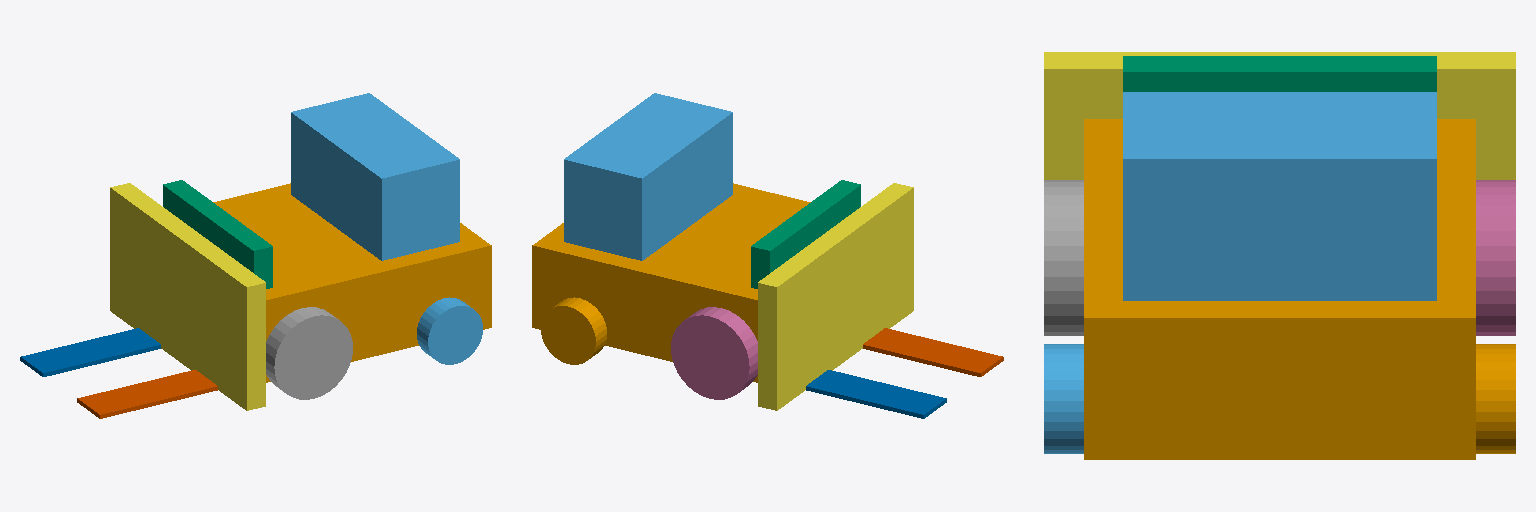
The robot description file, URDF, robot "sample":
<?xml version="1.0"?>
<robot name="sample">

  <link name="base_link">
    <visual>
      <geometry>
        <box size="0.6 0.5 0.2"/>
      </geometry>
    </visual>
  </link>

  <joint name="base_to_back_cover" type="fixed">
    <parent link="base_link"/>
    <child link="back_cover"/>
    <origin xyz="0.15 0 0.1"/>
  </joint>

  <link name="back_cover">
    <visual>
      <geometry>
        <box size="0.2 0.4 0.2"/>
      </geometry>
      <origin xyz="0 0 0.1"/>
    </visual>
  </link>

  <joint name="base_to_front_cover" type="fixed">
    <parent link="base_link"/>
    <child link="front_cover"/>
    <origin xyz="-0.25 0 0.1"/>
  </joint>

  <link name="front_cover">
    <visual>
      <geometry>
        <box size="0.05 0.4 0.1"/>
      </geometry>
      <origin xyz="0 0 0.05"/>
    </visual>
  </link>

  <joint name="base_to_fork_frame" type="prismatic">
    <parent link="base_link"/>
    <child link="fork_frame"/>
    <origin xyz="-0.3 0 -0.08"/>
    <axis xyz="0 0 1"/>
    <limit effort="1000.0" lower="0" upper="0.16" velocity="0.5"/>
  </joint>

  <link name="fork_frame">
    <visual>
      <geometry>
        <box size="0.05 0.6 0.3"/>
      </geometry>
      <origin xyz="-0.025 0 0.1"/>
    </visual>
  </link>

  <joint name="fork_frame_to_right_fork" type="fixed">
    <parent link="fork_frame"/>
    <child link="right_fork"/>
    <origin xyz="-0.05 0.125 -0.045"/>
  </joint>

  <link name="right_fork">
    <visual>
      <geometry>
        <box size="0.3 0.1 0.01"/>
      </geometry>
      <origin xyz="-0.15 0 0"/>
    </visual>
  </link>

<joint name="fork_frame_to_left_fork" type="fixed">
    <parent link="fork_frame"/>
    <child link="left_fork"/>
    <origin xyz="-0.05 -0.125 -0.045"/>
  </joint>

  <link name="left_fork">
    <visual>
      <geometry>
        <box size="0.3 0.1 0.01"/>
      </geometry>
      <origin xyz="-0.15 0 0"/>
    </visual>
  </link>

  <joint name="base_to_right_front_wheel" type="continuous">
    <parent link="base_link"/>
    <child link="right_front_wheel"/>
    <origin xyz="-0.18 0.25 -0.04"/>
    <axis xyz="0 1 0"/>
  </joint>

  <link name="right_front_wheel">
    <visual>
      <geometry>
        <cylinder length="0.05" radius="0.1"/>
      </geometry>
      <origin rpy="1.57075 0 0 " xyz="0 0.025 0"/>
    </visual>
  </link>

  <joint name="base_to_left_front_wheel" type="continuous">
    <parent link="base_link"/>
    <child link="left_front_wheel"/>
    <origin xyz="-0.18 -0.25 -0.04"/>
    <axis xyz="0 1 0"/>
  </joint>

  <link name="left_front_wheel">
    <visual>
      <geometry>
        <cylinder length="0.05" radius="0.1"/>
      </geometry>
      <origin rpy="1.57075 0 0 " xyz="0 -0.025 0"/>
    </visual>
  </link>

  <joint name="base_to_right_back_wheel" type="continuous">
    <parent link="base_link"/>
    <child link="right_back_wheel"/>
    <origin xyz="0.18 0.25 -0.07"/>
    <axis xyz="0 1 0"/>
  </joint>

  <link name="right_back_wheel">
    <visual>
      <geometry>
        <cylinder length="0.05" radius="0.07"/>
      </geometry>
      <origin rpy="1.57075 0 0 " xyz="0 0.025 0"/>
    </visual>
  </link>

  <joint name="base_to_left_back_wheel" type="continuous">
    <parent link="base_link"/>
    <child link="left_back_wheel"/>
    <origin xyz="0.18 -0.25 -0.07"/>
    <axis xyz="0 1 0"/>
  </joint>

  <link name="left_back_wheel">
    <visual>
      <geometry>
        <cylinder length="0.05" radius="0.07"/>
      </geometry>
      <origin rpy="1.57075 0 0 " xyz="0 -0.025 0"/>
    </visual>
  </link>

</robot>

--- Facts derived from the render (not from the file) ---
3 views of the same robot in one strip: view 1: azimuth 30°, elevation 25°; view 2: azimuth 150°, elevation 25°; view 3: azimuth 270°, elevation 25° (orthographic).
Robot: sample — 10 links, 9 joints (4 continuous, 1 prismatic, 4 fixed); root link base_link; default pose: every joint at zero.
Links seen in each view (by area): view 1: base_link, fork_frame, back_cover, left_front_wheel, front_cover, left_back_wheel, right_fork, left_fork; view 2: base_link, fork_frame, back_cover, right_front_wheel, front_cover, right_back_wheel, left_fork, right_fork; view 3: base_link, back_cover, fork_frame, front_cover, right_front_wheel, left_front_wheel, right_back_wheel, left_back_wheel.
Boxes of the visible links, x1=… form: base_link: x1=213, y1=183, x2=491, y2=382; fork_frame: x1=110, y1=183, x2=265, y2=410; back_cover: x1=291, y1=93, x2=459, y2=260; left_front_wheel: x1=266, y1=307, x2=352, y2=399; front_cover: x1=163, y1=180, x2=272, y2=288; left_back_wheel: x1=417, y1=297, x2=482, y2=364; right_fork: x1=20, y1=328, x2=160, y2=376; left_fork: x1=77, y1=370, x2=217, y2=418; base_link: x1=532, y1=183, x2=810, y2=382; fork_frame: x1=758, y1=183, x2=913, y2=410; back_cover: x1=564, y1=93, x2=732, y2=260; right_front_wheel: x1=671, y1=307, x2=757, y2=399; front_cover: x1=751, y1=180, x2=860, y2=288; right_back_wheel: x1=541, y1=297, x2=606, y2=364; left_fork: x1=863, y1=328, x2=1003, y2=376; right_fork: x1=806, y1=370, x2=946, y2=418; base_link: x1=1084, y1=119, x2=1475, y2=459; back_cover: x1=1123, y1=92, x2=1436, y2=300; fork_frame: x1=1044, y1=52, x2=1515, y2=179; front_cover: x1=1123, y1=56, x2=1436, y2=91; right_front_wheel: x1=1476, y1=180, x2=1515, y2=335; left_front_wheel: x1=1044, y1=180, x2=1083, y2=335; right_back_wheel: x1=1476, y1=344, x2=1515, y2=453; left_back_wheel: x1=1044, y1=344, x2=1083, y2=453.
Size in the robot's own frame: 0.95 by 0.6 by 0.44 metres.
Geometry: primitives only (box / cylinder / sphere), no mesh files.